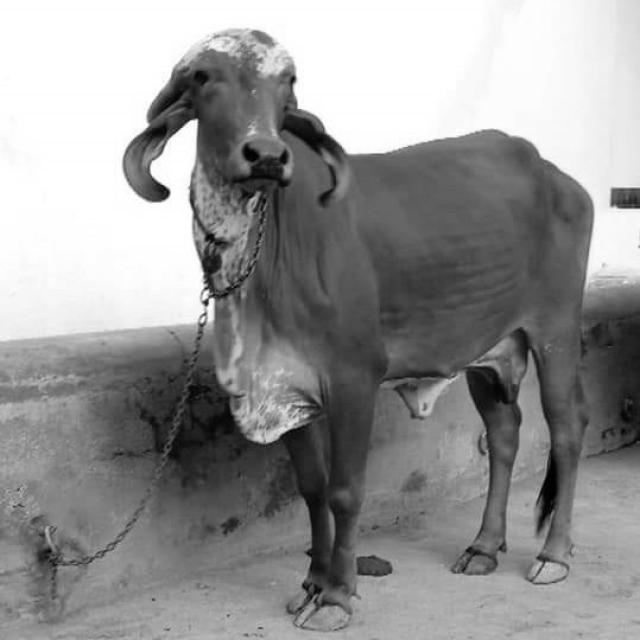Cow: (121, 26, 595, 631)
